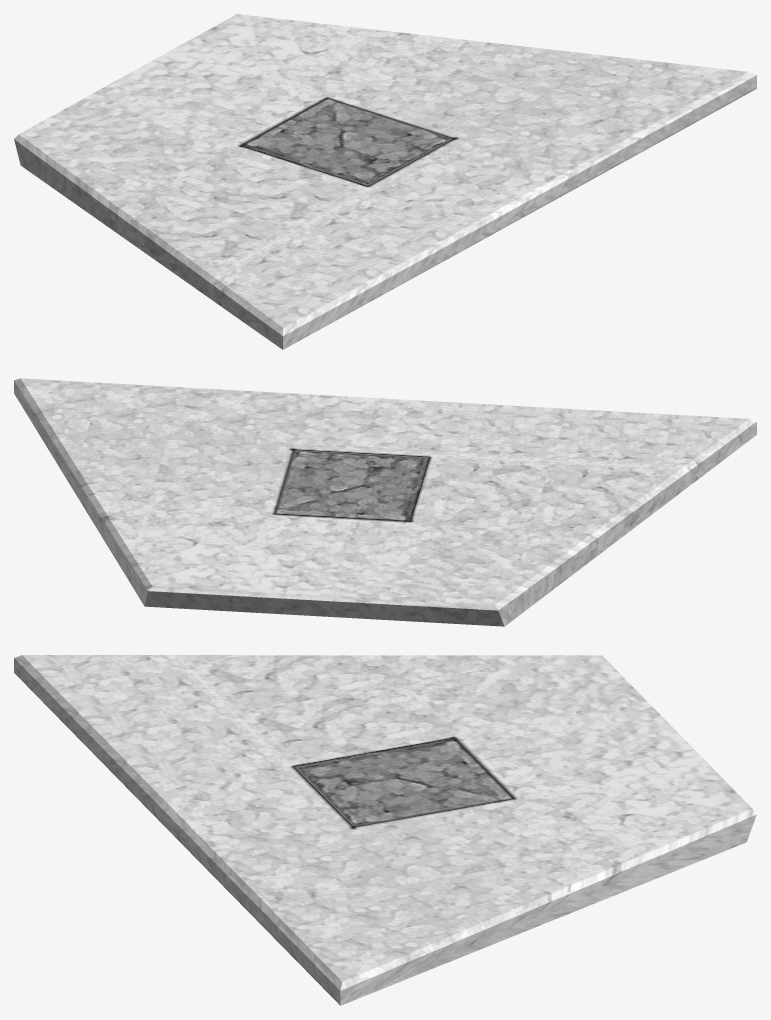
File: golem_floor.fbx
3 renders of one model, top to bottom at view 1: azimuth 30°, elevation 25°; view 2: azimuth 150°, elevation 25°; view 3: azimuth 270°, elevation 25°, orthographic. The views are drawn at different scales.
Parts seen in each view (by area): view 1: pTorus1; view 2: pTorus1; view 3: pTorus1.
Part boxes in pixels (bbox=[...]): pTorus1: bbox=[14, 14, 756, 349]; pTorus1: bbox=[14, 378, 756, 626]; pTorus1: bbox=[14, 655, 756, 1005].
Size of the model in its own units: 241 by 9.48 by 227.
